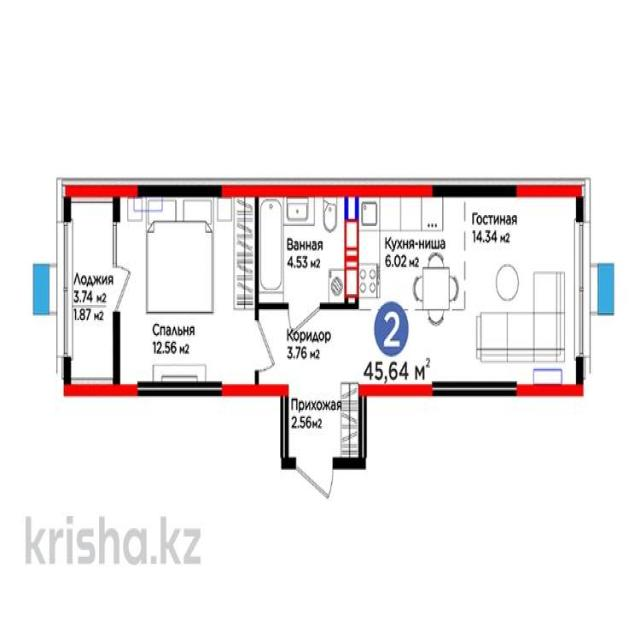balcony: (61, 190, 114, 390)
bathroom: (256, 187, 356, 306)
hallway: (256, 308, 356, 395), (283, 385, 363, 462)
living_room: (118, 191, 256, 390)
studio: (358, 189, 582, 390)
